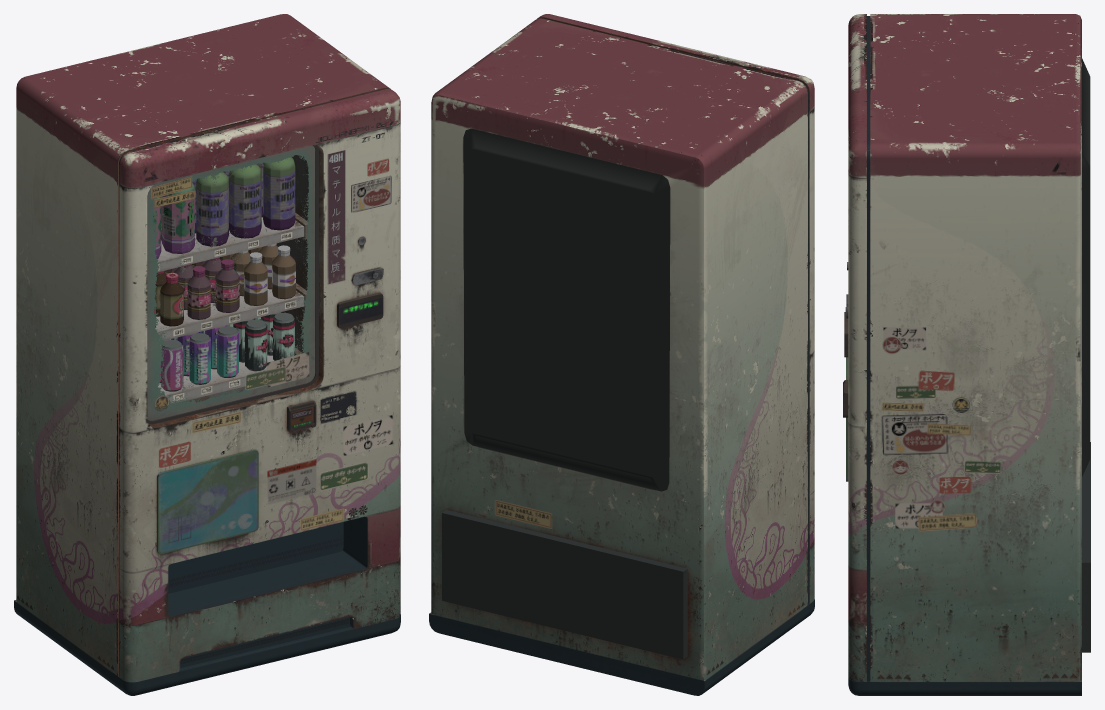
Rendered from VendingMachineFinal01.fbx.
The picture shows the model from 3 angles, left to right: view 1: azimuth 30°, elevation 25°; view 2: azimuth 150°, elevation 25°; view 3: azimuth 270°, elevation 25°; orthographic projection. The views are drawn at different scales.
Parts seen in each view (by area): view 1: VendingMachine_01, VendingGlass_01; view 2: VendingMachine_01; view 3: VendingMachine_01.
Part boxes in pixels (x1,y1,x2,y2): VendingMachine_01: (14, 14, 400, 695); VendingGlass_01: (147, 145, 315, 420); VendingMachine_01: (429, 14, 814, 695); VendingMachine_01: (843, 14, 1090, 695).
Bounding box in the file's own units: 95.18 × 178 × 72.47.
